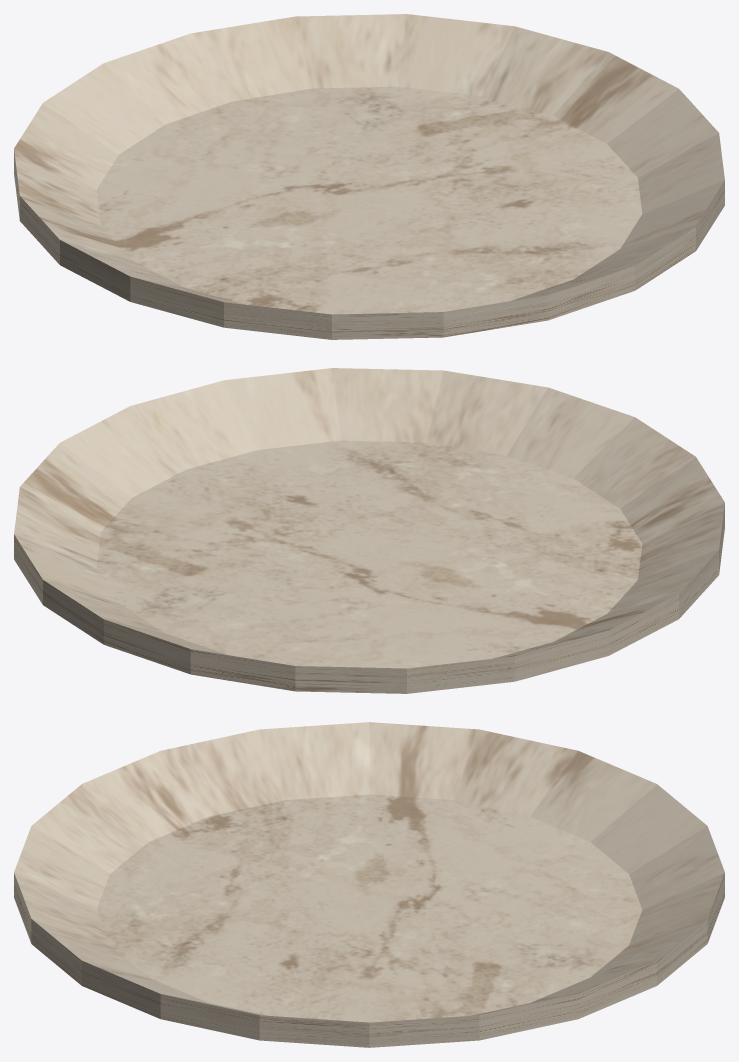
File: Plato.fbx
The picture shows the model from 3 angles, top to bottom: view 1: azimuth 30°, elevation 25°; view 2: azimuth 150°, elevation 25°; view 3: azimuth 270°, elevation 25°; orthographic projection.
Visible parts, largest first — view 1: Cylinder.004; view 2: Cylinder.004; view 3: Cylinder.004.
Boxes of the visible parts, x1,y1,x2,y2 form: Cylinder.004: (14,14,724,339); Cylinder.004: (14,368,724,693); Cylinder.004: (14,722,724,1047).
Bounding box in the file's own units: 4.85 × 0.5129 × 4.85.
